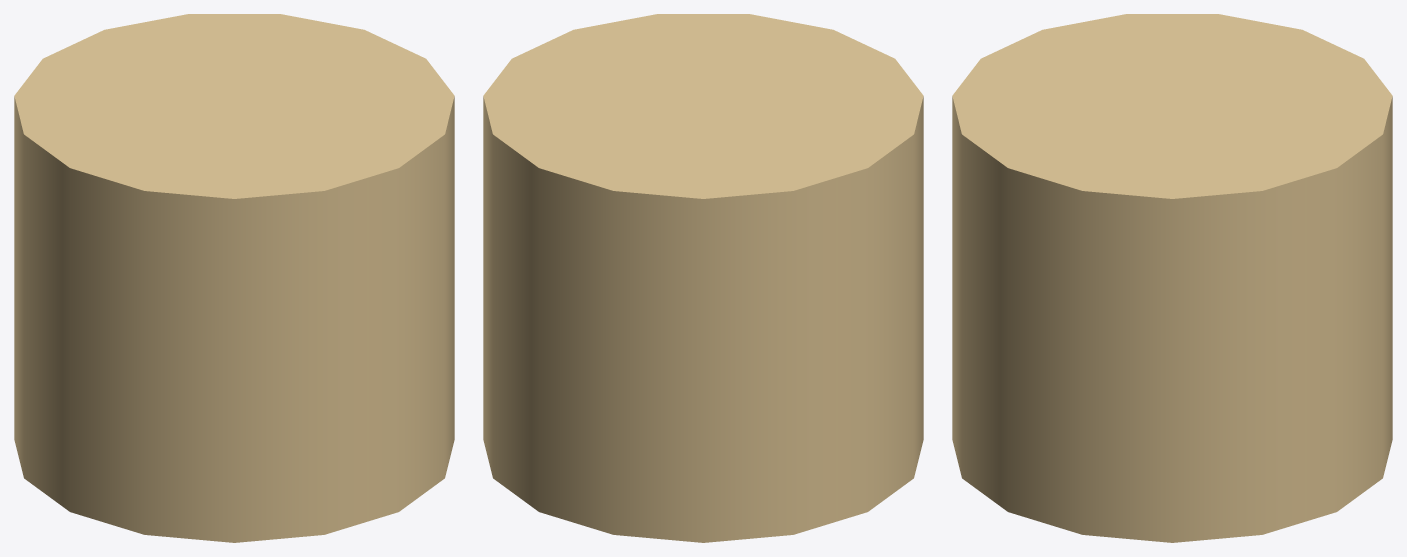
File: jugInnerBatter_1.fbx
The picture shows the model from 3 angles, left to right: view 1: azimuth 30°, elevation 25°; view 2: azimuth 150°, elevation 25°; view 3: azimuth 270°, elevation 25°; orthographic projection.
Parts seen in each view (by area): view 1: jug_batter; view 2: jug_batter; view 3: jug_batter.
Boxes of the visible parts, box(x1,y1,x2,y2) form: jug_batter: box(14, 14, 454, 542); jug_batter: box(483, 14, 923, 542); jug_batter: box(952, 14, 1392, 542).
Bounding box in the file's own units: 1.73 × 1.5 × 1.74.
